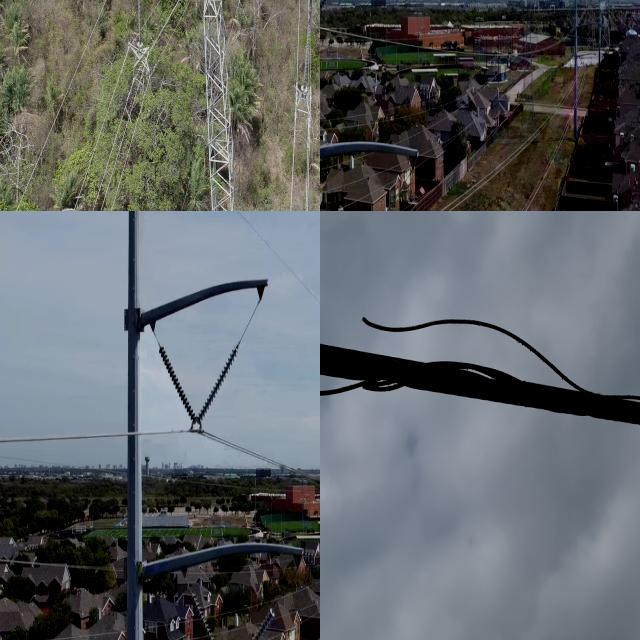杆塔: (130, 0, 320, 211)
正常绝缘子: (187, 332, 246, 440), (152, 334, 203, 433), (184, 579, 222, 640), (247, 595, 284, 640), (300, 0, 314, 93), (134, 0, 143, 50)
电缆破损: (320, 288, 640, 433)
